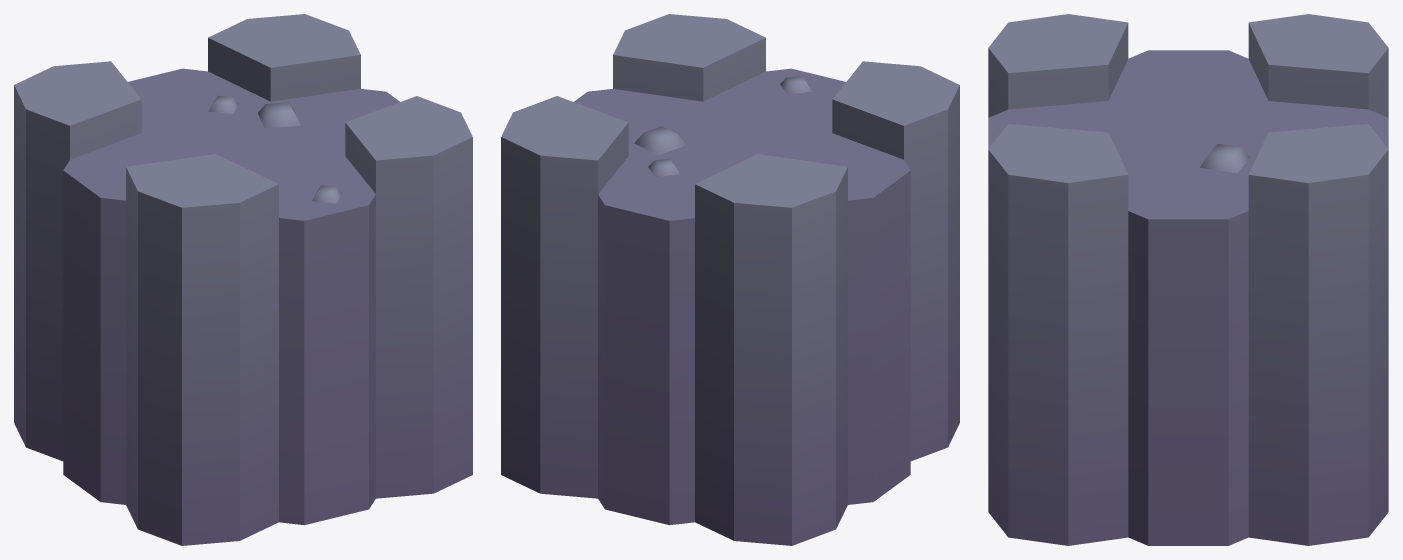
Rendered from rocks_high.glb.
3 views of the same model, side by side, from view 1: azimuth 30°, elevation 25°; view 2: azimuth 150°, elevation 25°; view 3: azimuth 270°, elevation 25° (orthographic). The views are drawn at different scales.
Visible parts, largest first — view 1: rocks-high; view 2: rocks-high; view 3: rocks-high.
Boxes of the visible parts, x1,y1,x2,y2 form: rocks-high: (14,14,472,545); rocks-high: (501,14,959,545); rocks-high: (988,14,1388,545).
Size of the model in its own units: 1 by 1 by 1.
1 material, 1 textured.
